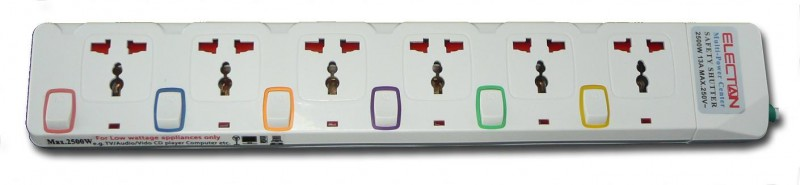Three_eye_plug: (18, 17, 788, 156)
